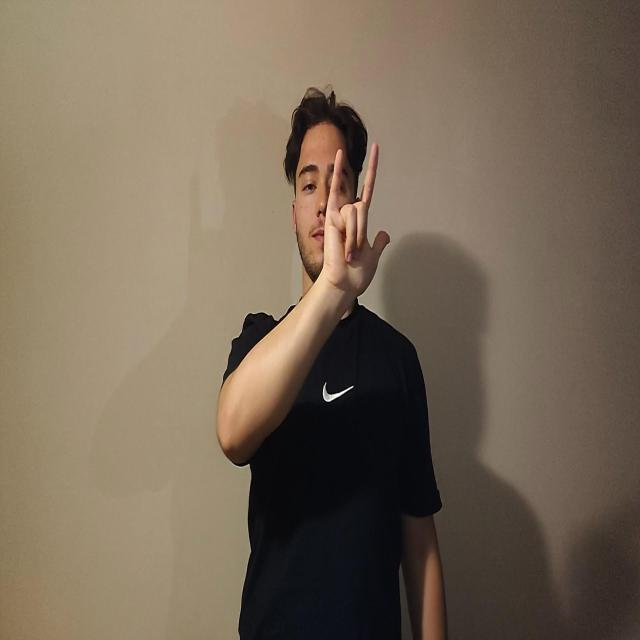iloveyou: (322, 140, 390, 303)
